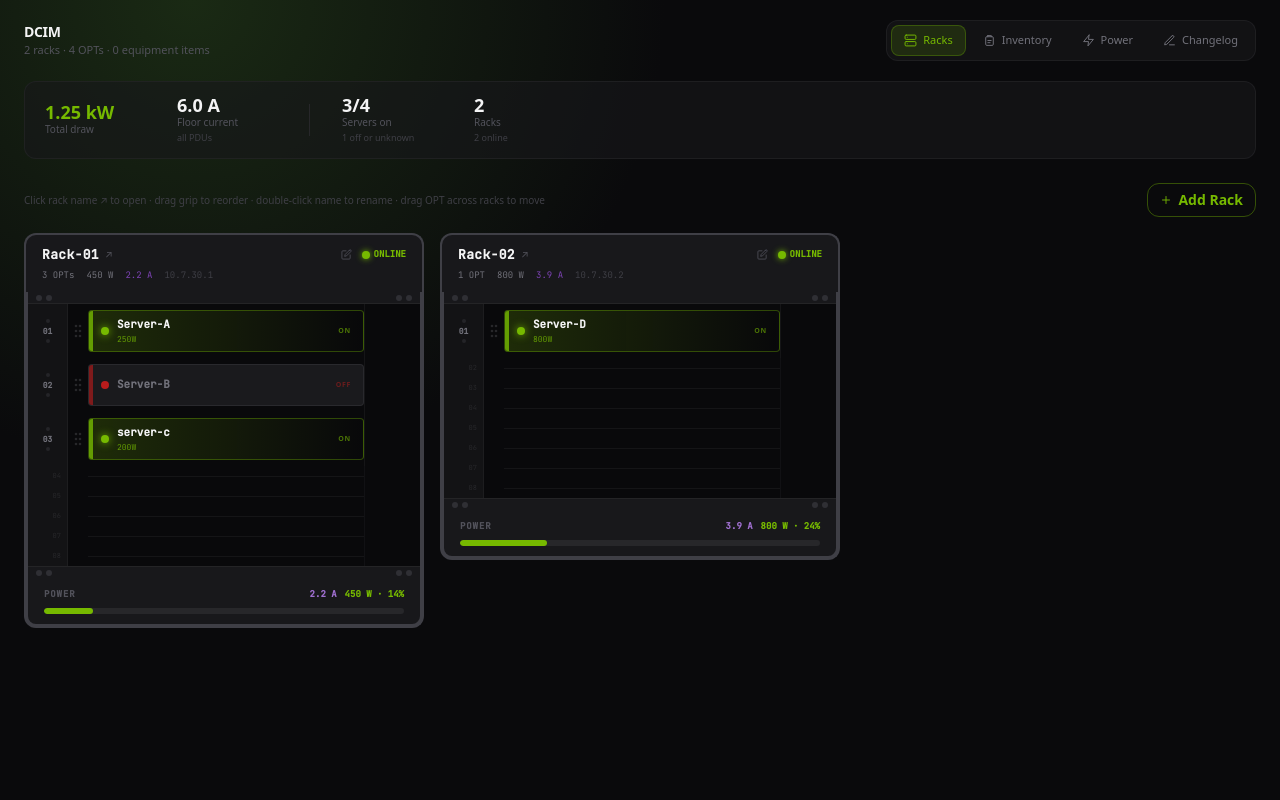
Test: DcimView — Inventory sub-view › filters by rack
Step 1. Click the button "Inventory" → (1017, 40), box [970,25,1065,56]
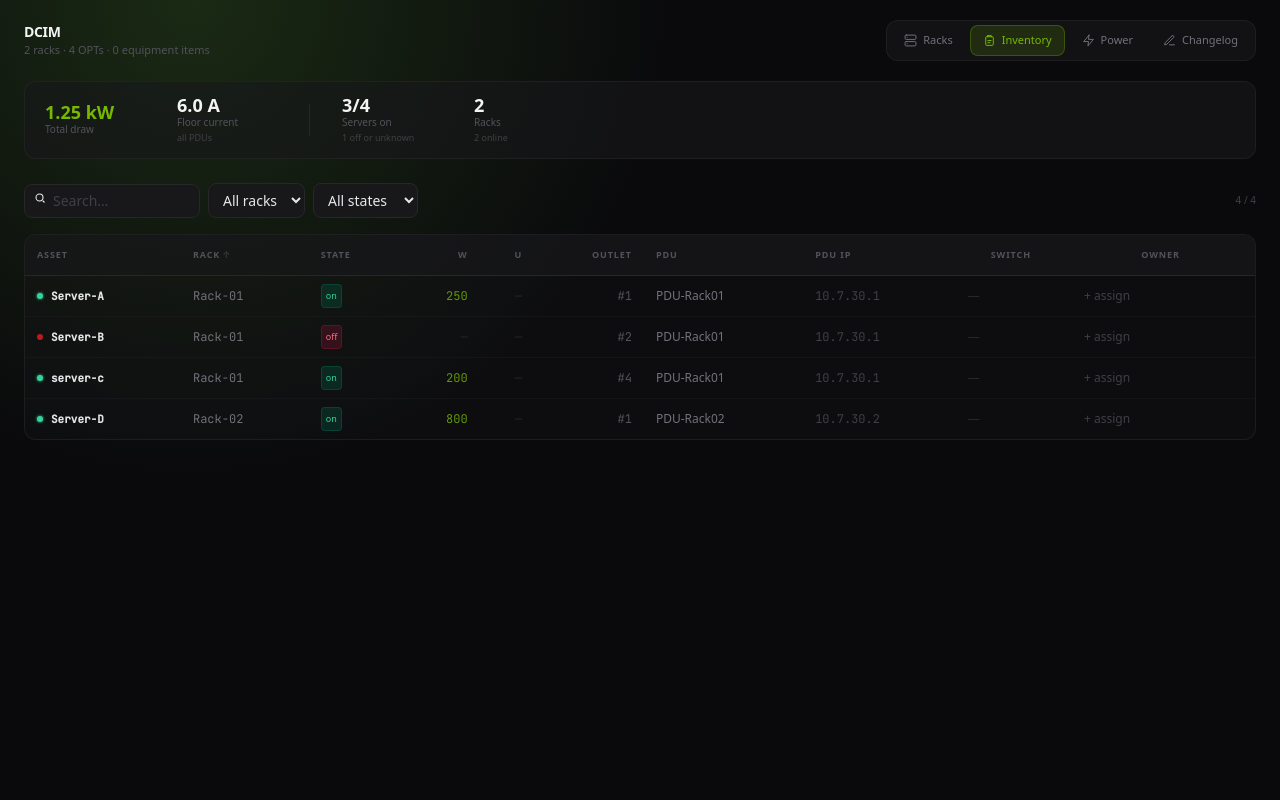
Step 2. Select "Rack-02" in the 1st dropdown → (256, 200), box [208,183,305,218]
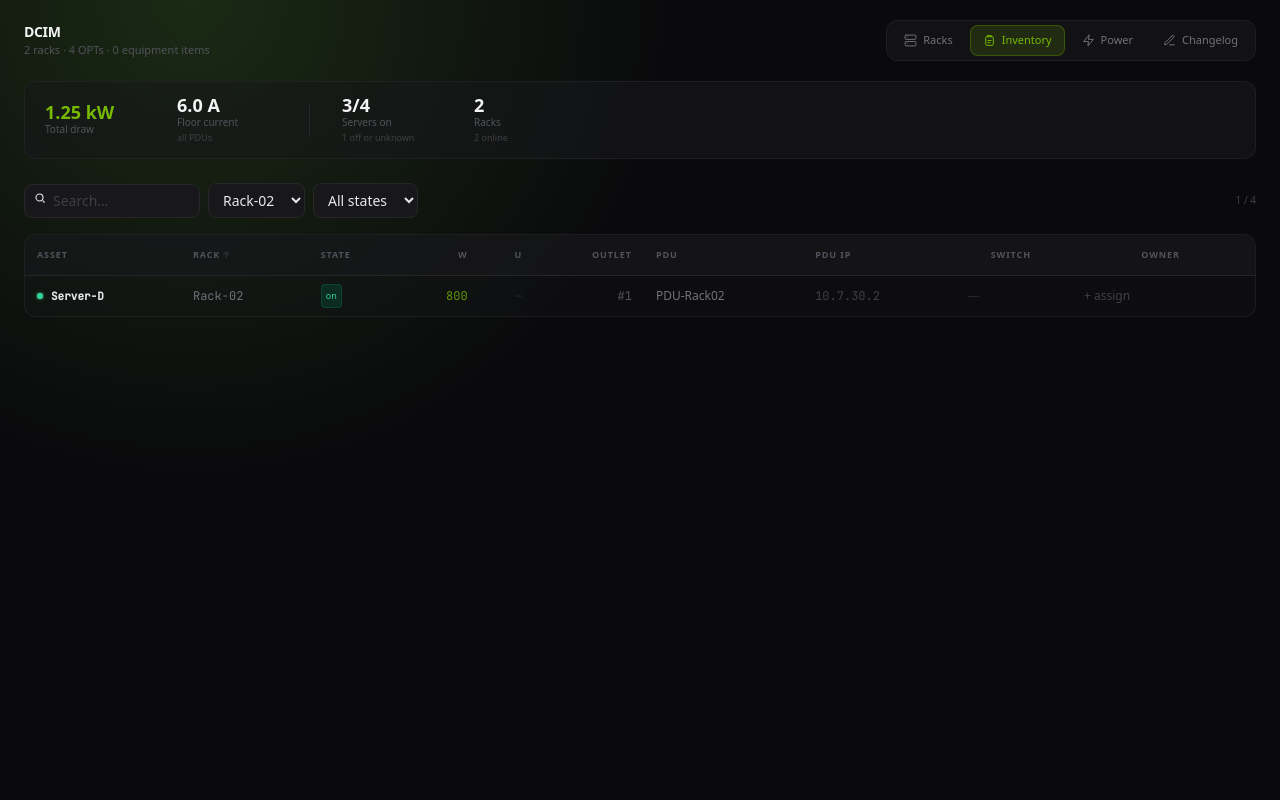
Check: the text "Server-D" is shown, box [51,286,104,306]
Check: the text "Server-A" is gone
